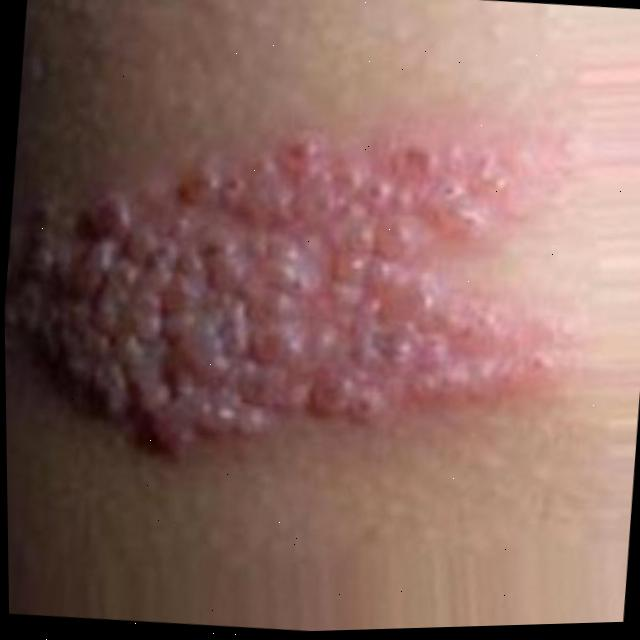Shingles: (2, 99, 564, 494)
